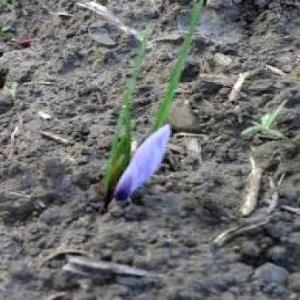Saffron: (111, 124, 172, 207)
